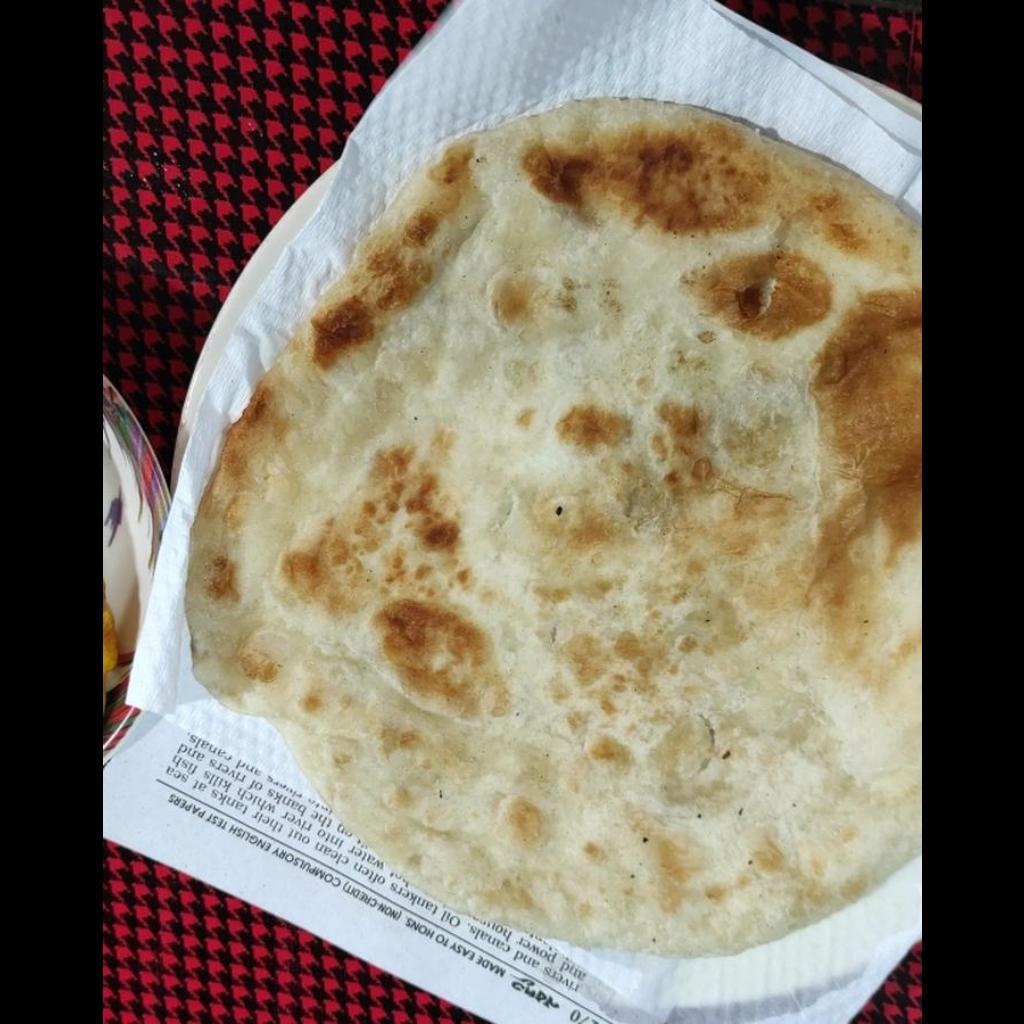ruti: (185, 97, 919, 961)
